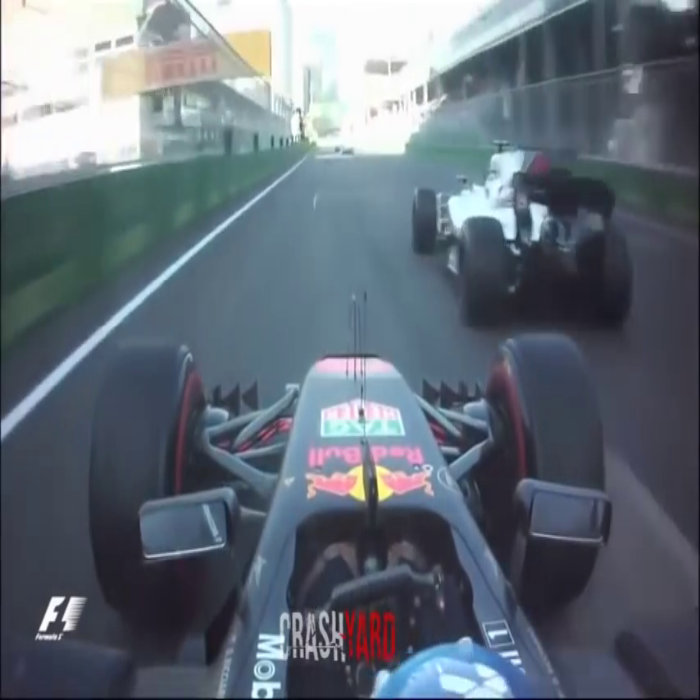f1_car: (82, 308, 634, 700), (392, 139, 650, 327)
